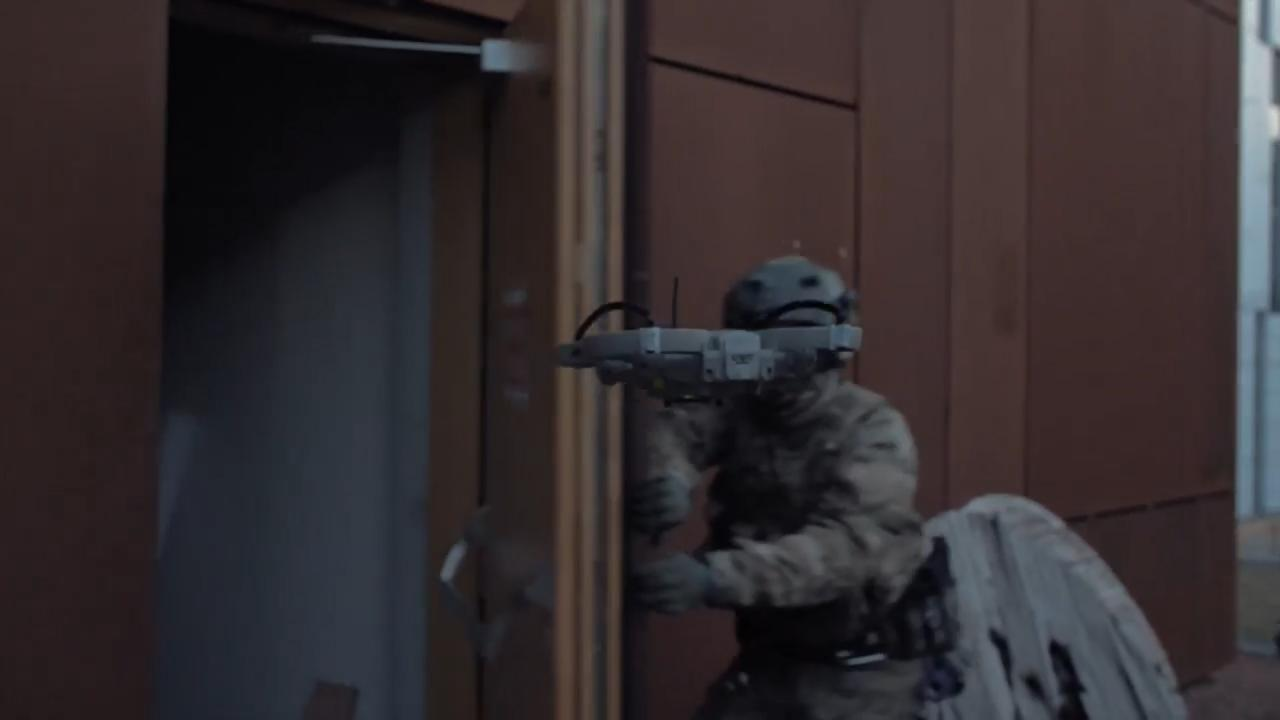Drone: (536, 268, 885, 428)
